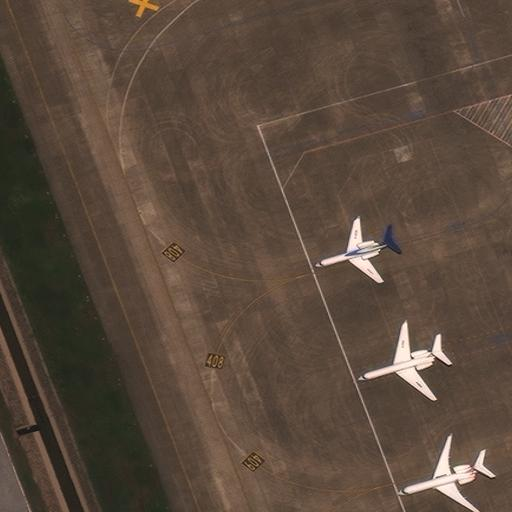Medium Civil Transport: (356, 322, 444, 400), (393, 437, 484, 511), (313, 219, 393, 283)
